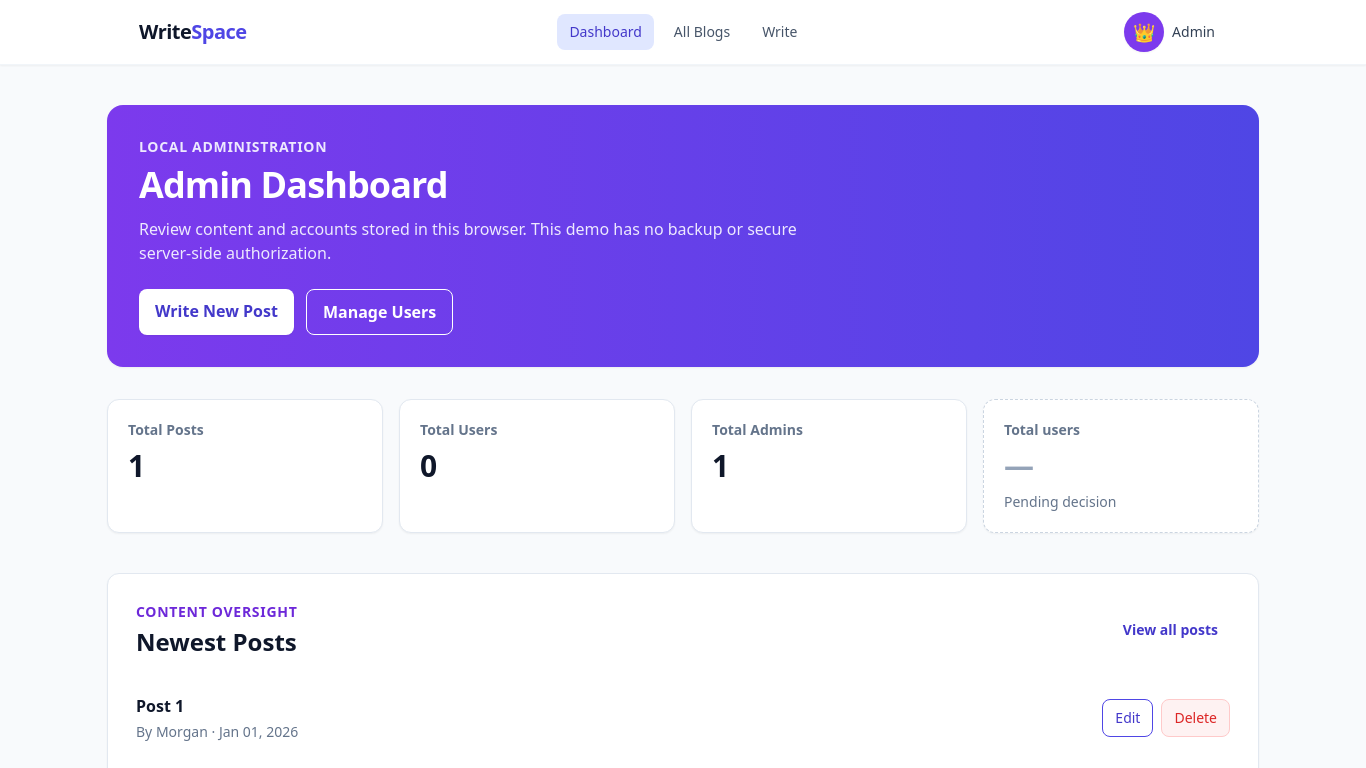
it: admin route and dashboard › retains dashboard state and reports a failed post write
What coordinates should you click on to do the following:
click the button with aria-label "Delete Post 1"
I would click on:
 (1196, 718)
Its box is [1161,699,1230,737].
(page scrolled)
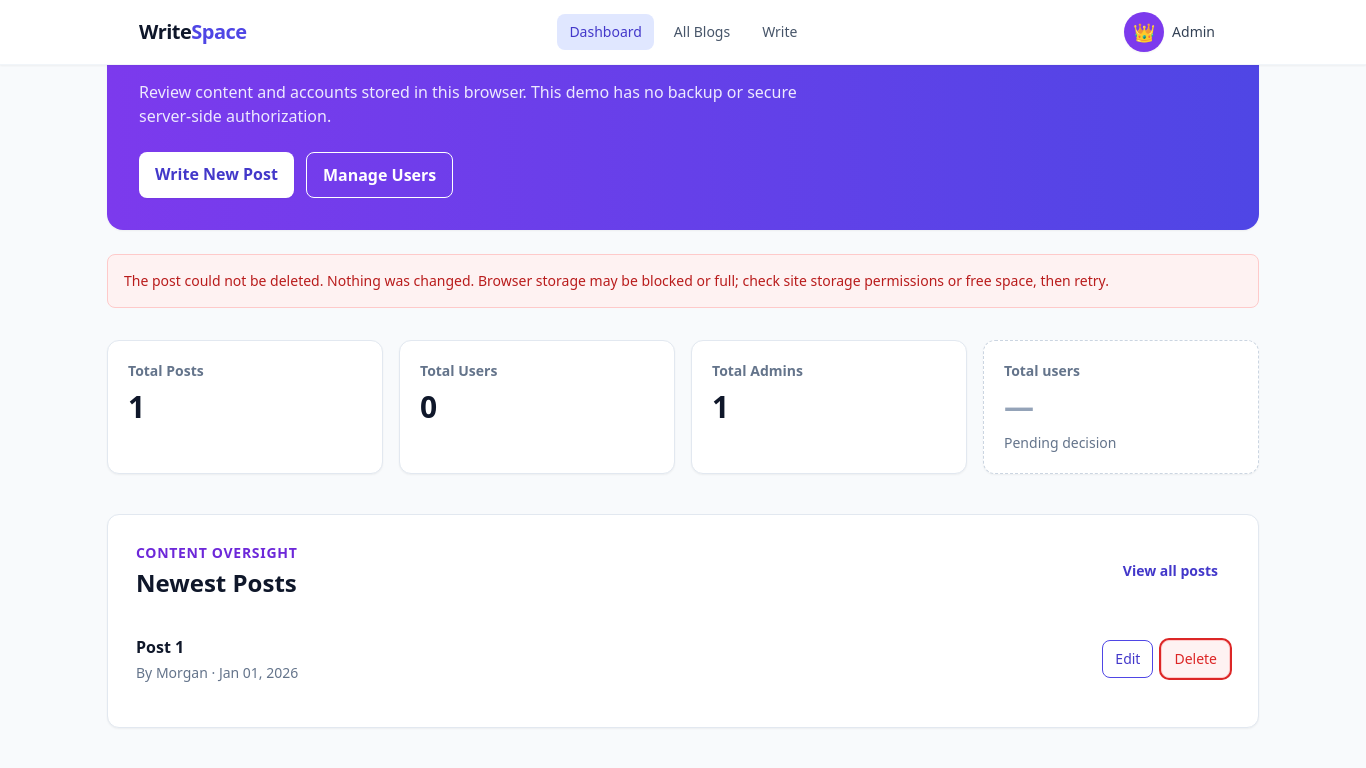
Expected: the link "Post 1" is shown, [136,636,184,658]
Now the message shows "Nothing was changed", box [124,271,1109,290]
Now the message shows "Browser storage may be blocked or full", box [124,271,1109,290]
